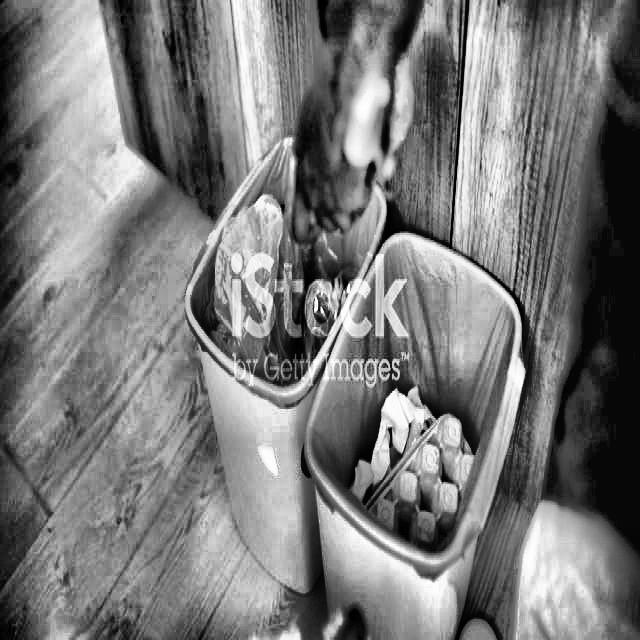Empty: (307, 221, 540, 561)
